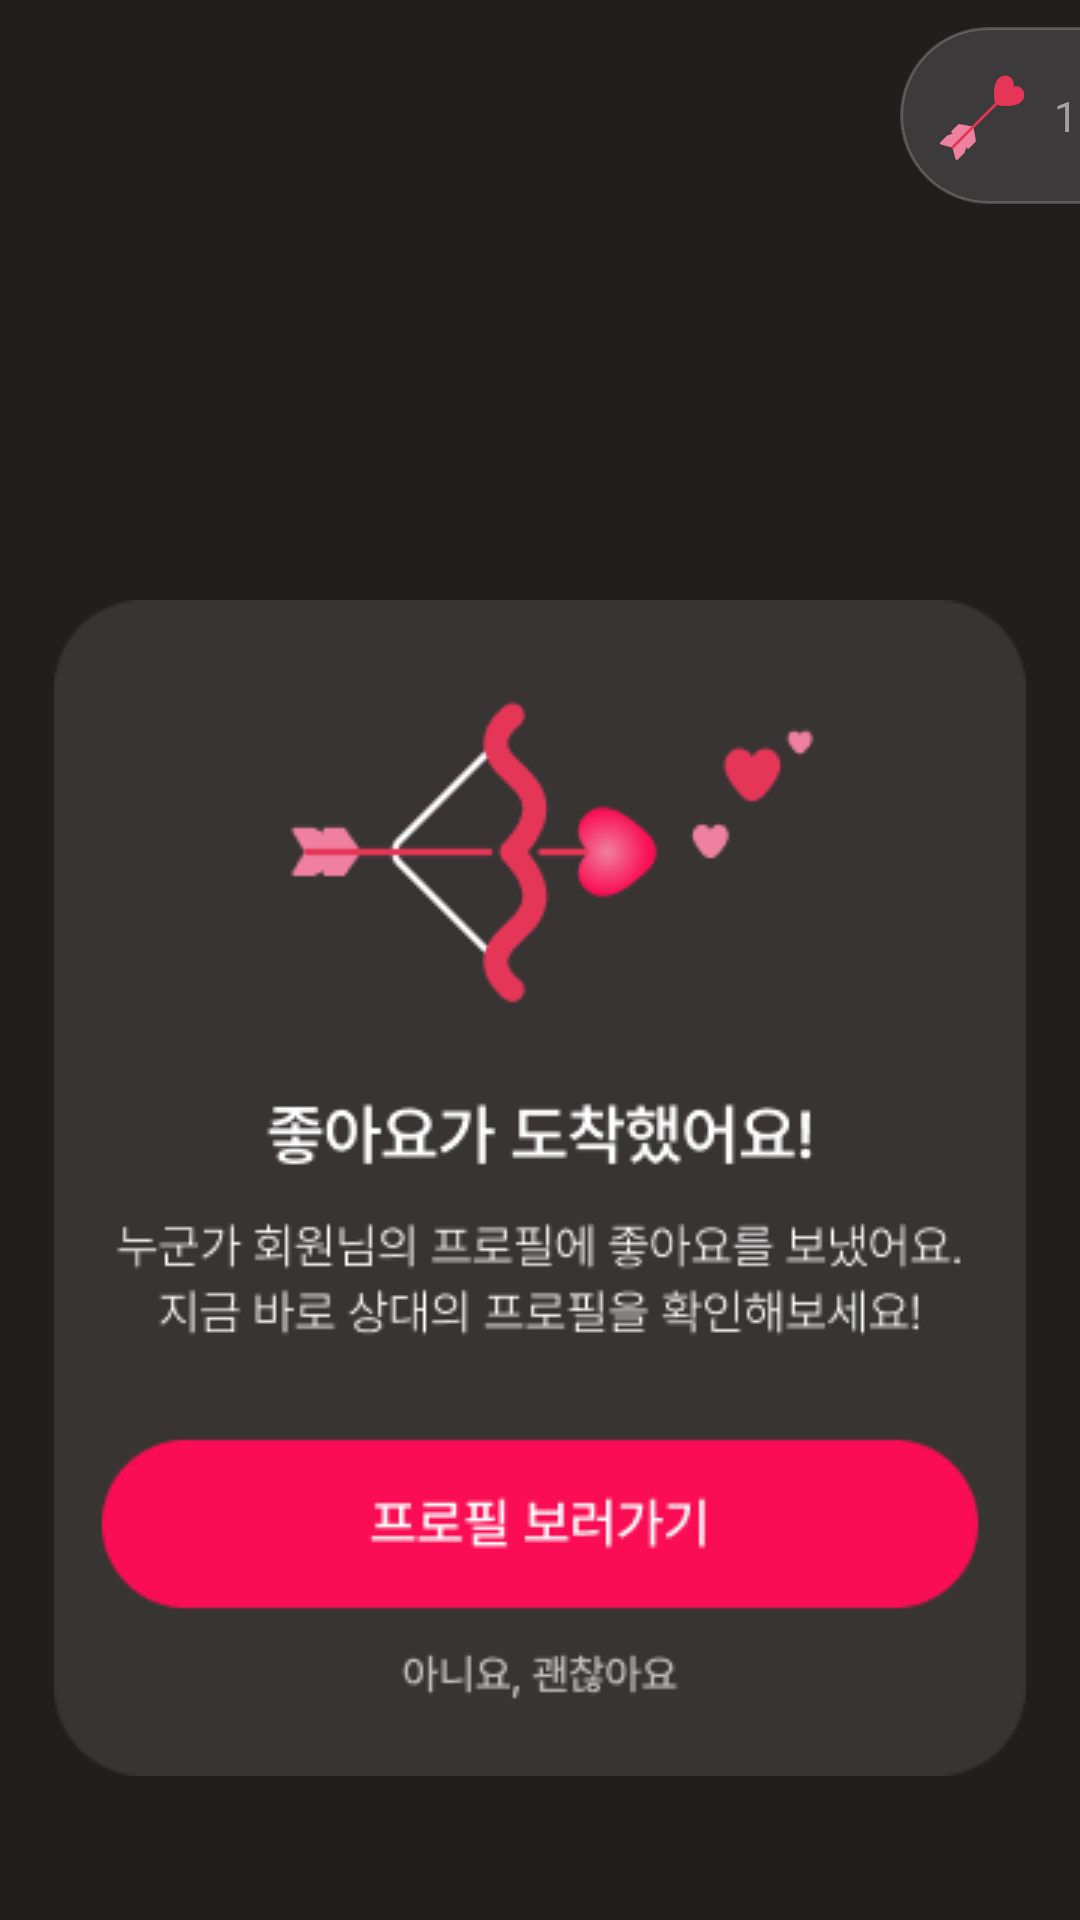

Icons on this 1080w x 1920h Android screen, each with its box as box=[x1, y1, x2, y2]:
heartcash: box=[940, 75, 1025, 160]
